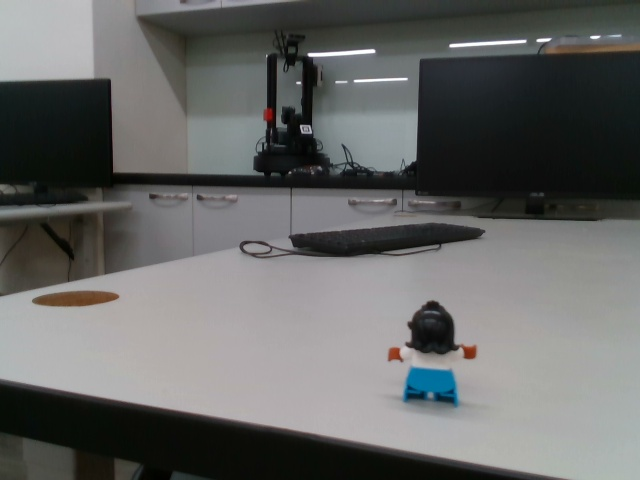people: (386, 299, 482, 409)
